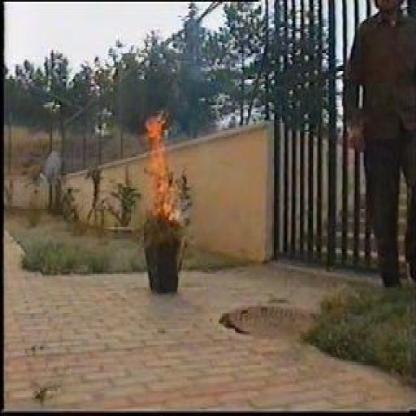foggia-v2-map80-epoch100 - v1 4323: (144, 114, 184, 224)
